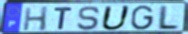G: (129, 4, 156, 31)
H: (22, 5, 50, 32)
L: (156, 5, 181, 31)
S: (77, 6, 102, 31)
T: (53, 7, 74, 31)
U: (99, 5, 133, 31)
